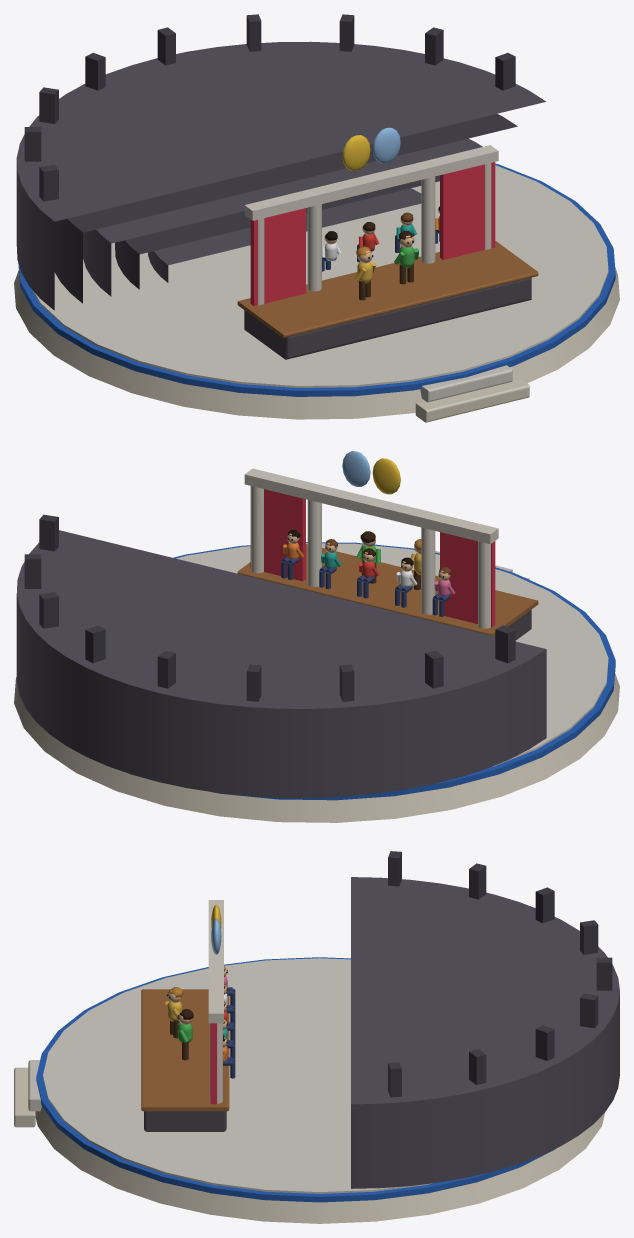
File: theatre.glb
The picture shows the model from 3 angles, top to bottom: view 1: azimuth 30°, elevation 25°; view 2: azimuth 150°, elevation 25°; view 3: azimuth 270°, elevation 25°; orthographic projection. The views are drawn at different scales.
Parts seen in each view (by area): view 1: part_000, part_001, part_002, part_004; view 2: part_000, part_001, part_002, part_004; view 3: part_000, part_002.
Boxes of the visible parts, x1,y1,x2,y2 form: part_000: (14, 14, 619, 422); part_001: (250, 208, 305, 305); part_002: (440, 162, 495, 259); part_004: (342, 127, 400, 170); part_000: (14, 468, 619, 822); part_001: (440, 532, 495, 627); part_002: (250, 486, 305, 581); part_004: (342, 451, 400, 494); part_000: (14, 851, 619, 1223); part_002: (210, 1023, 216, 1104).
Size of the model in its own units: 11.12 by 4.06 by 11.71.
